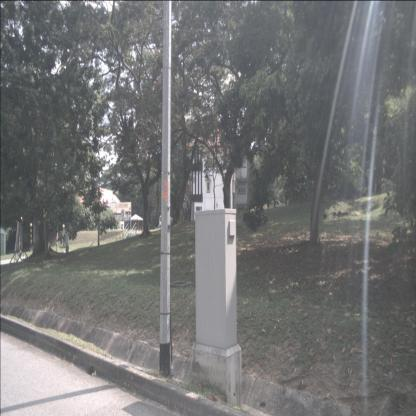vehicle-car: (158, 218, 174, 230), (159, 215, 173, 225)
